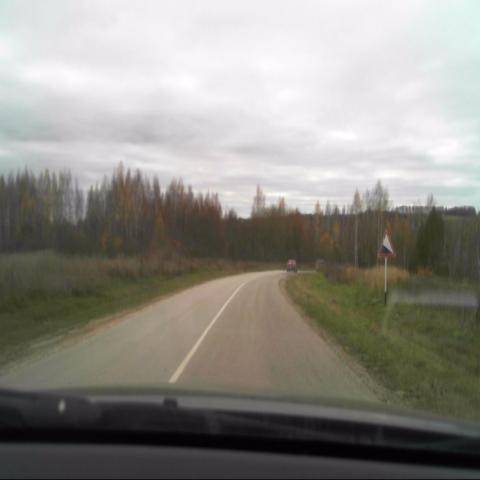1_13: (376, 229, 396, 258)
